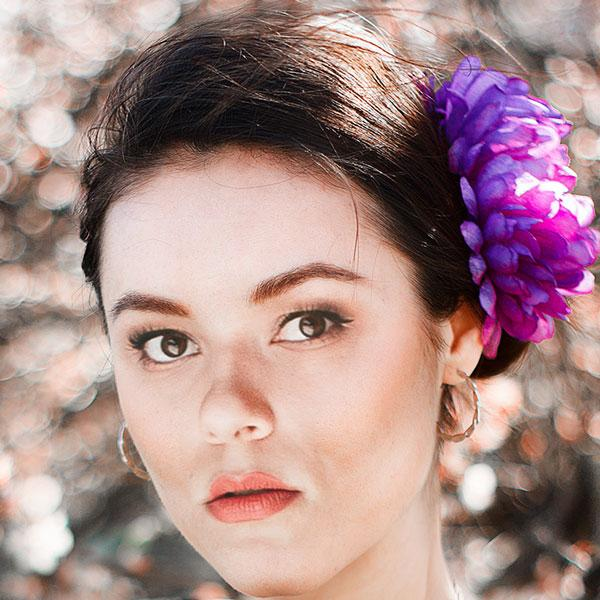Eyes: (261, 299, 356, 359), (116, 317, 208, 375)
